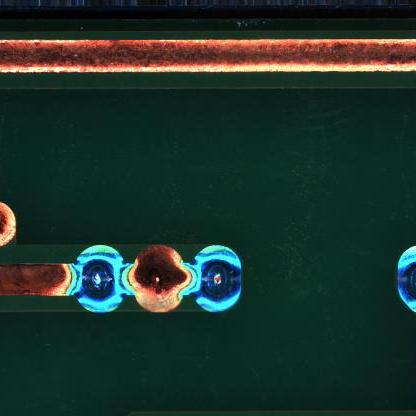spot: (192, 244, 243, 315), (75, 245, 126, 315)
